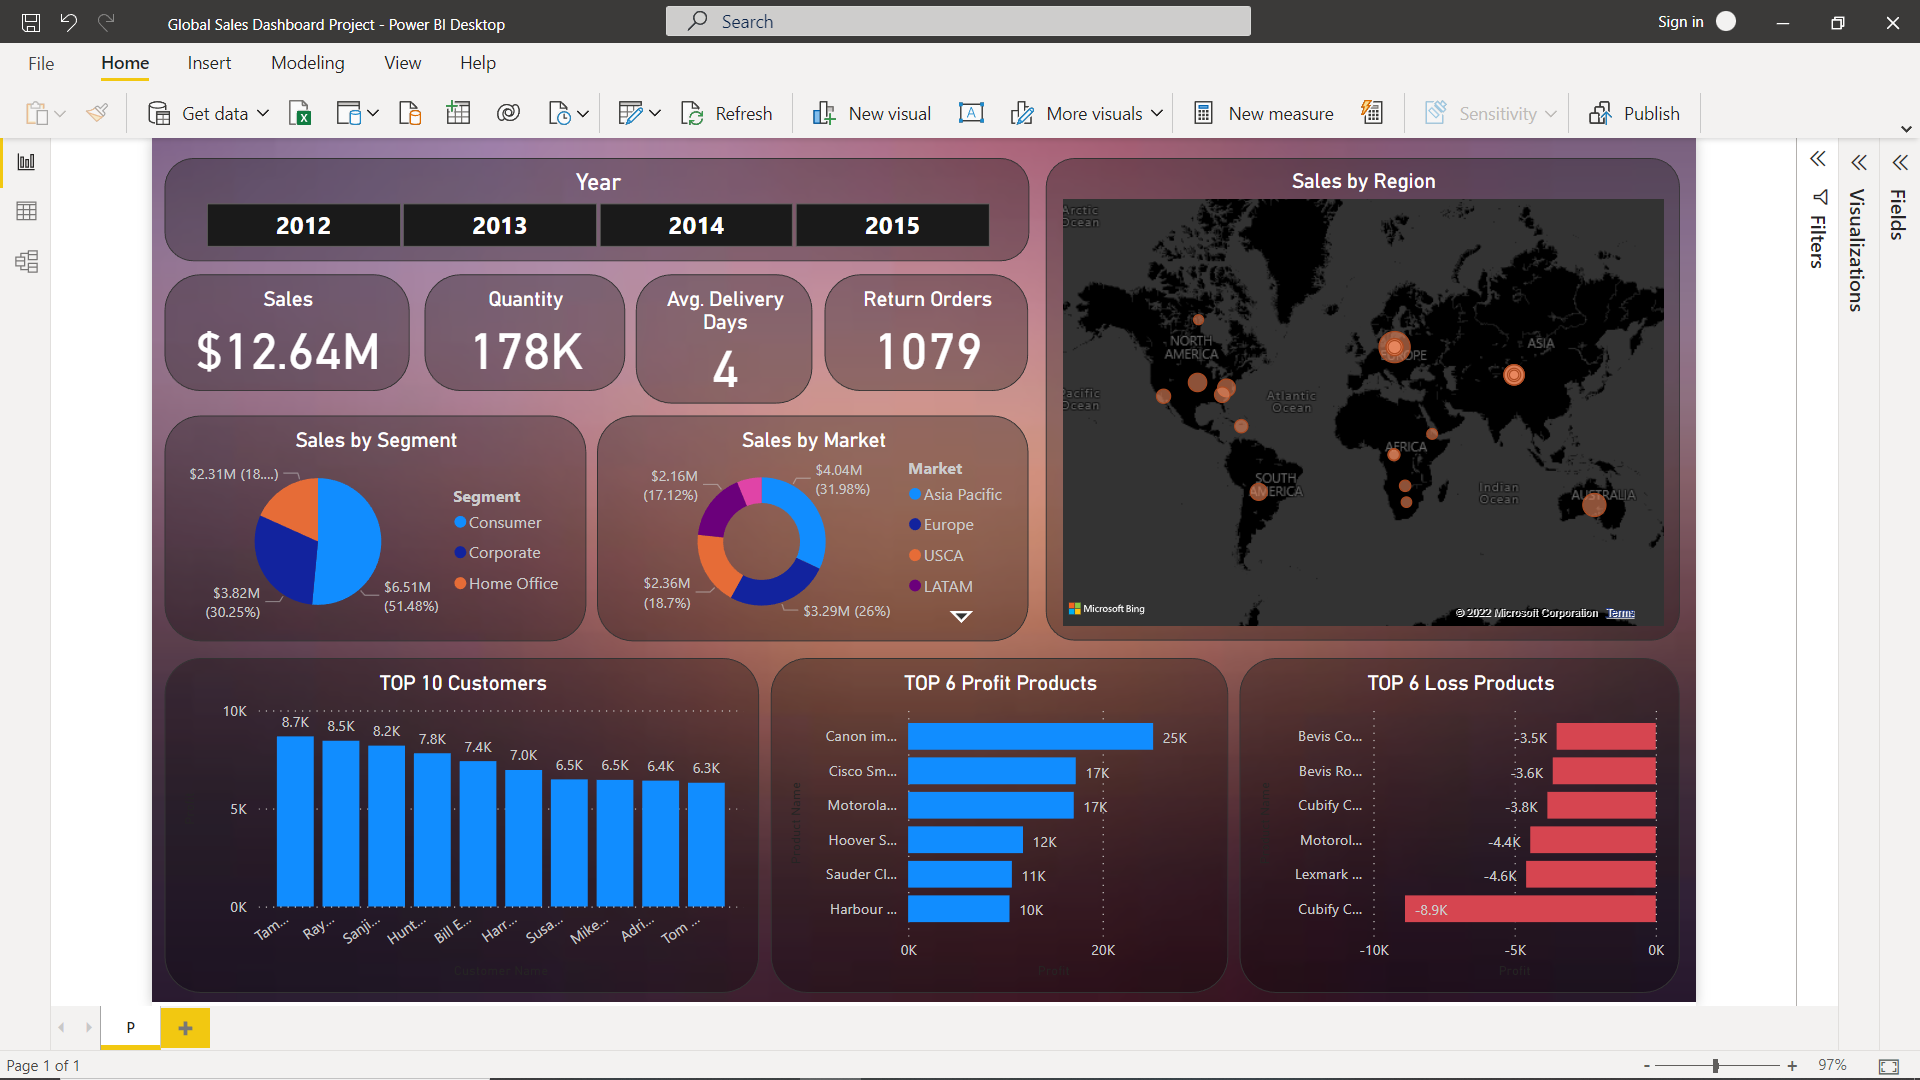

What the dashboard file says about the page in this screenshot:
{"tool":"powerbi","page":{"name":"P","canvas":[1280,720],"ordinal":0},"visuals":[{"type":"card","title":"Sales","fields":{"Values":["Orders.Sales"]},"box":[9.9,112.7,202.8,97.2],"z":0},{"type":"card","title":"Quantity","fields":{"Values":["Orders.Quantity"]},"box":[225.4,112.7,166.2,97.2],"z":1000},{"type":"card","title":"Avg. Delivery Days","fields":{"Values":["Orders.Delivery Days"]},"box":[401.4,112.7,146.5,107],"z":2000},{"type":"slicer","title":"Year","fields":{"Values":["Orders.Year"]},"box":[9.9,16.9,716.9,85.9],"z":3000},{"type":"card","title":"Return Orders","fields":{"Values":["Returns.Return Orders"]},"box":[557.7,112.7,169,97.2],"z":4000},{"type":"map","fields":{"Category":["Orders.Region"],"Size":["Orders.Sales"]},"box":[740.8,16.9,525.4,400],"z":5000},{"type":"barChart","title":"TOP 6 Profit  Products","fields":{"Category":["Orders.Product Name"],"Y":["Orders.Profit"]},"box":[512.7,431,378.9,277.5],"z":6000},{"type":"barChart","title":"TOP 6 Loss  Products","fields":{"Category":["Orders.Product Name"],"Y":["Orders.Profit"]},"box":[901.4,431,364.8,277.5],"z":7000},{"type":"pieChart","fields":{"Category":["Orders.Segment"],"Y":["Orders.Sales"]},"box":[9.9,229.6,349.3,187.3],"z":8000},{"type":"donutChart","fields":{"Y":["Orders.Sales"],"Category":["Orders.Market"]},"box":[369,229.6,357.7,187.3],"z":9000},{"type":"columnChart","title":"TOP 10 Customers","fields":{"Y":["Orders.Profit"],"Category":["Orders.Customer Name"]},"box":[9.9,431,493,277.5],"z":10000}]}

Visuals, with their boxes on the page's 1280x720 design canvas (x1, y1, x2, y2). These are canvas units, not pixel positions in the 1920x1080 screenshot, which may show the page scaled, cropped or inside an application window:
"Sales" card: left=10, top=113, right=213, bottom=210
"Quantity" card: left=225, top=113, right=392, bottom=210
"Avg. Delivery Days" card: left=401, top=113, right=548, bottom=220
"Year" slicer: left=10, top=17, right=727, bottom=103
"Return Orders" card: left=558, top=113, right=727, bottom=210
map - Orders.Region x Orders.Sales: left=741, top=17, right=1266, bottom=417
"TOP 6 Profit  Products" barChart: left=513, top=431, right=892, bottom=708
"TOP 6 Loss  Products" barChart: left=901, top=431, right=1266, bottom=708
pieChart - Orders.Segment x Orders.Sales: left=10, top=230, right=359, bottom=417
donutChart - Orders.Sales x Orders.Market: left=369, top=230, right=727, bottom=417
"TOP 10 Customers" columnChart: left=10, top=431, right=503, bottom=708
